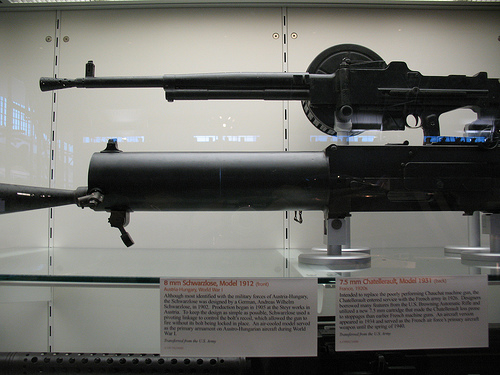rifle: (34, 48, 499, 136)
